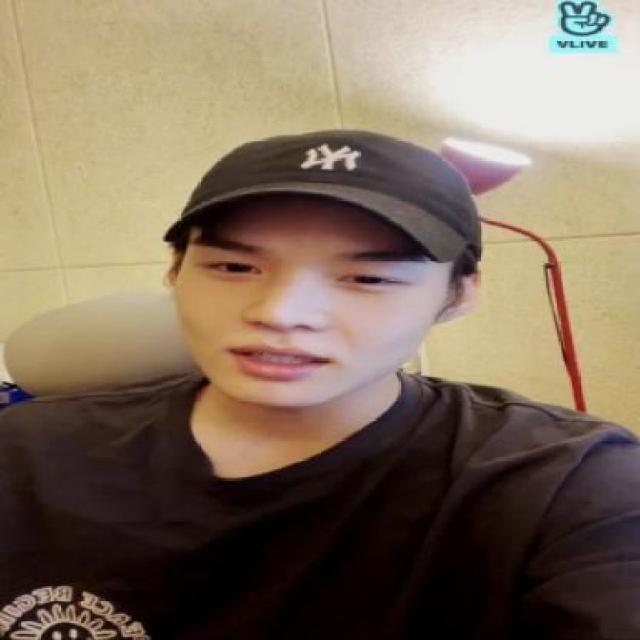hat: (168, 127, 488, 267)
